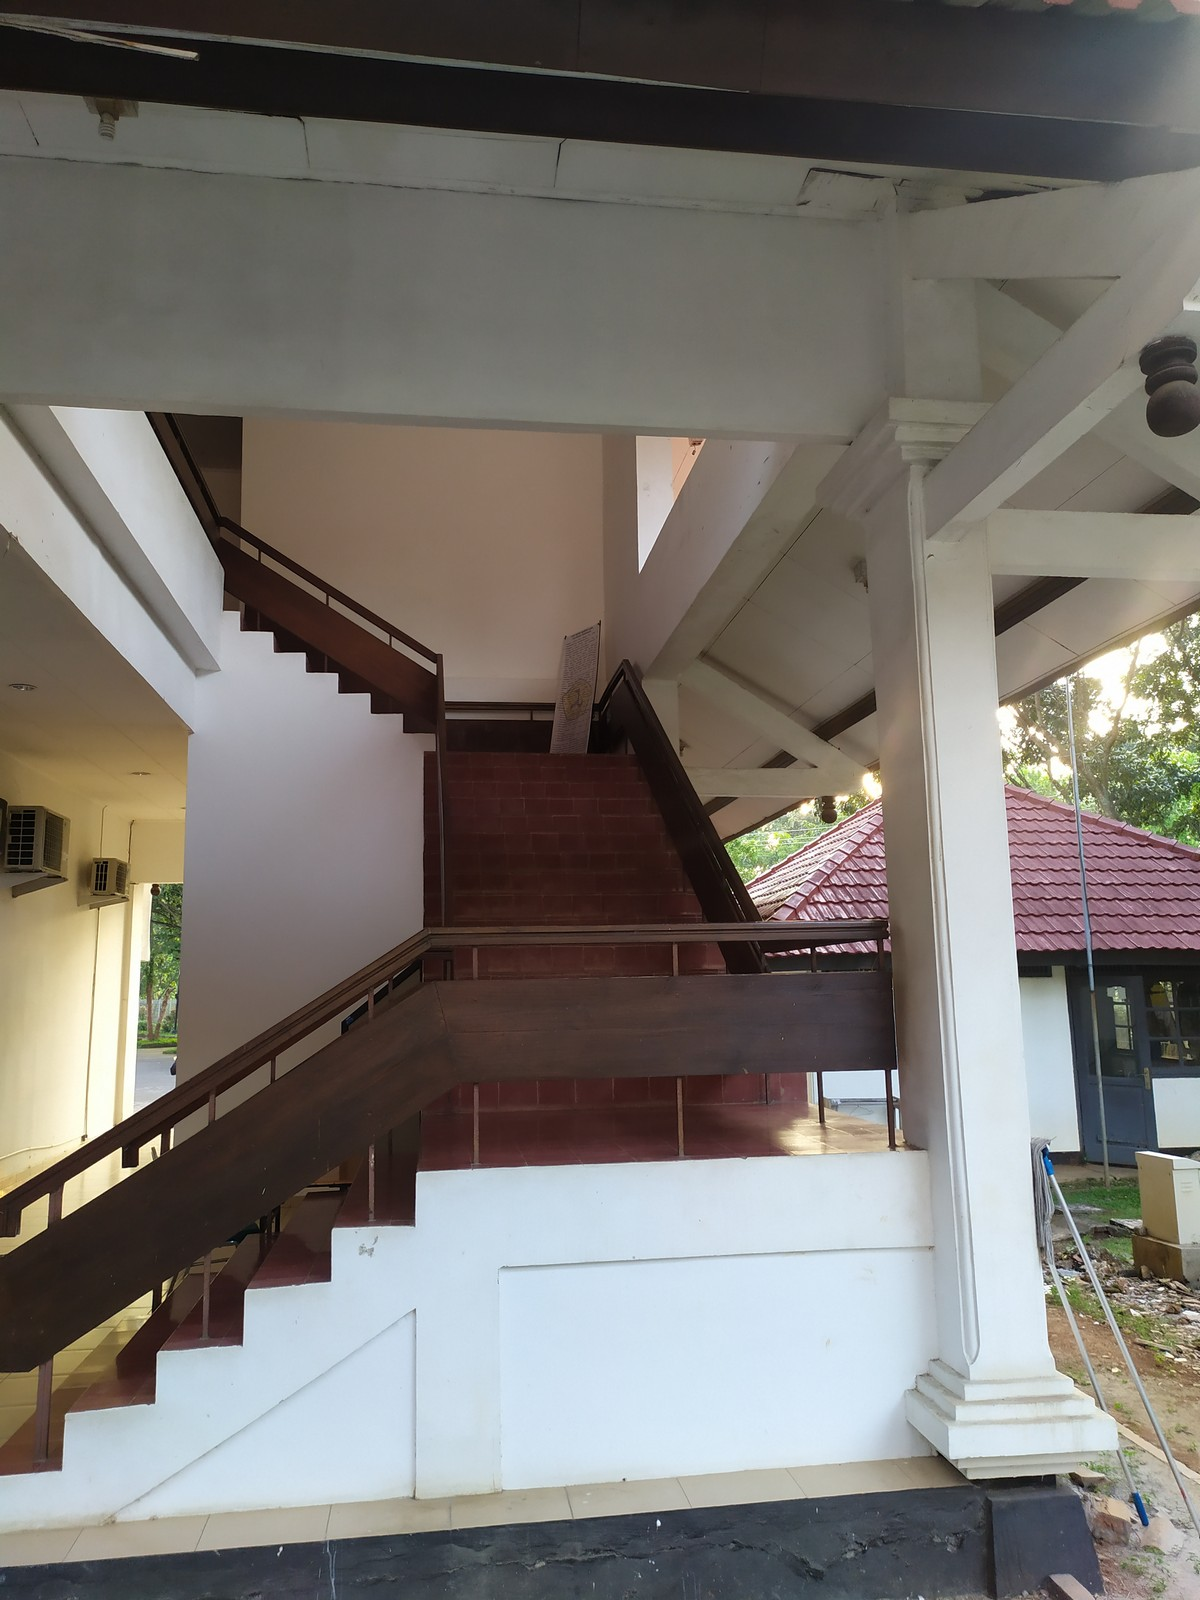concrete beam: (972, 494, 1200, 602)
concrete column: (855, 467, 1079, 1396)
